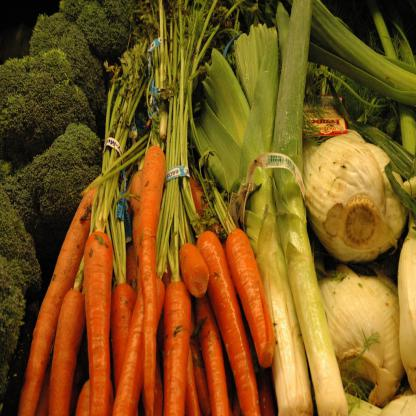Carrot: (16, 144, 272, 416), (200, 164, 275, 368)
